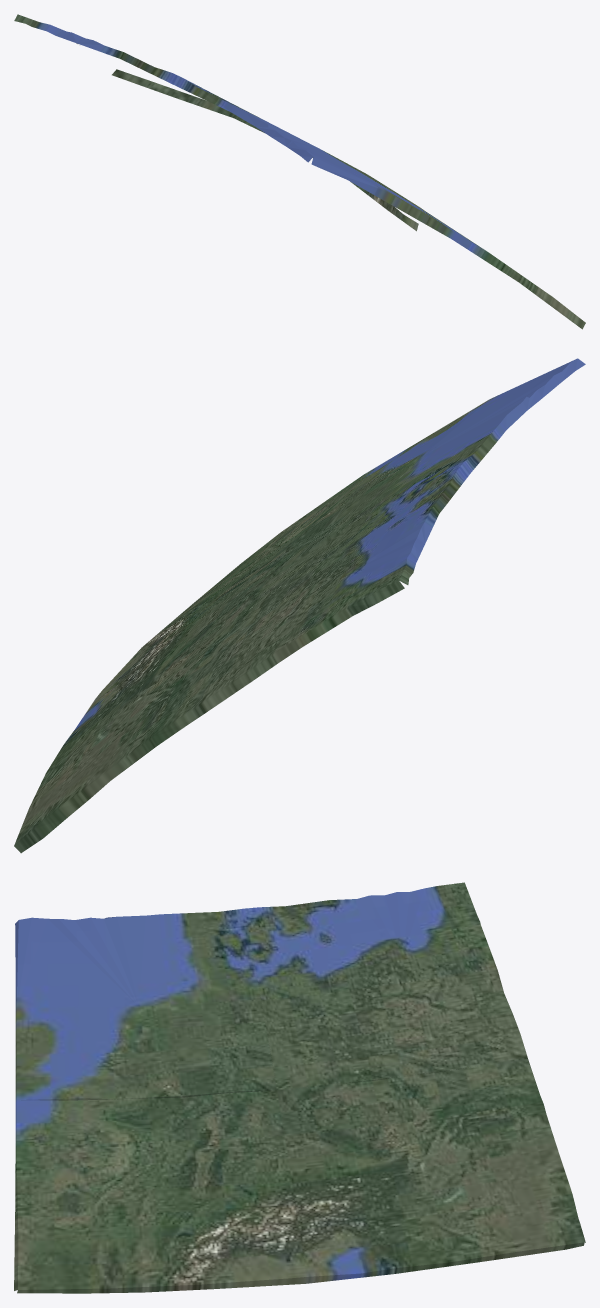
3 views of the same model, one above another, from view 1: azimuth 30°, elevation 25°; view 2: azimuth 150°, elevation 25°; view 3: azimuth 270°, elevation 25° (orthographic). The views are drawn at different scales.
Size of the model in its own units: 1264341 by 827507 by 1748052.
1 material, 1 textured.
